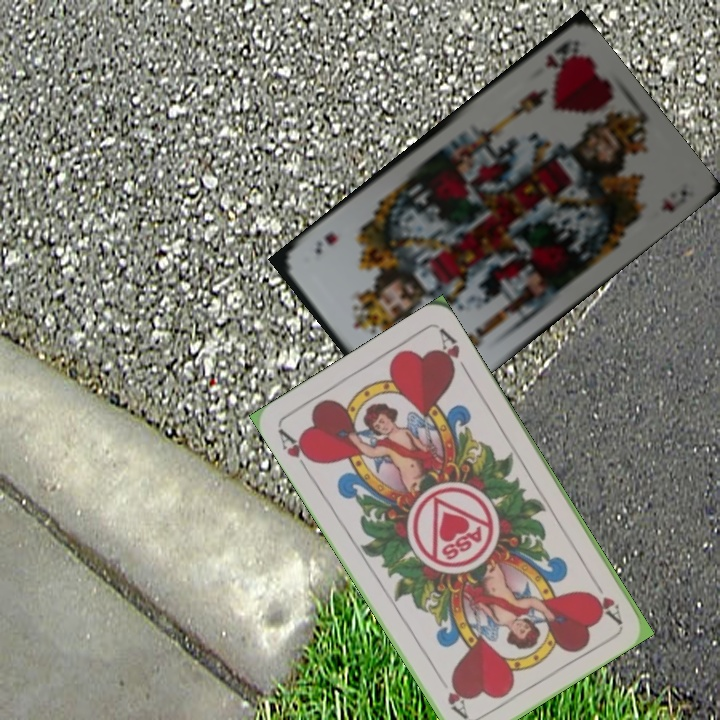HA: (274, 425, 318, 478), (586, 572, 624, 626)
HK: (541, 37, 574, 72)
